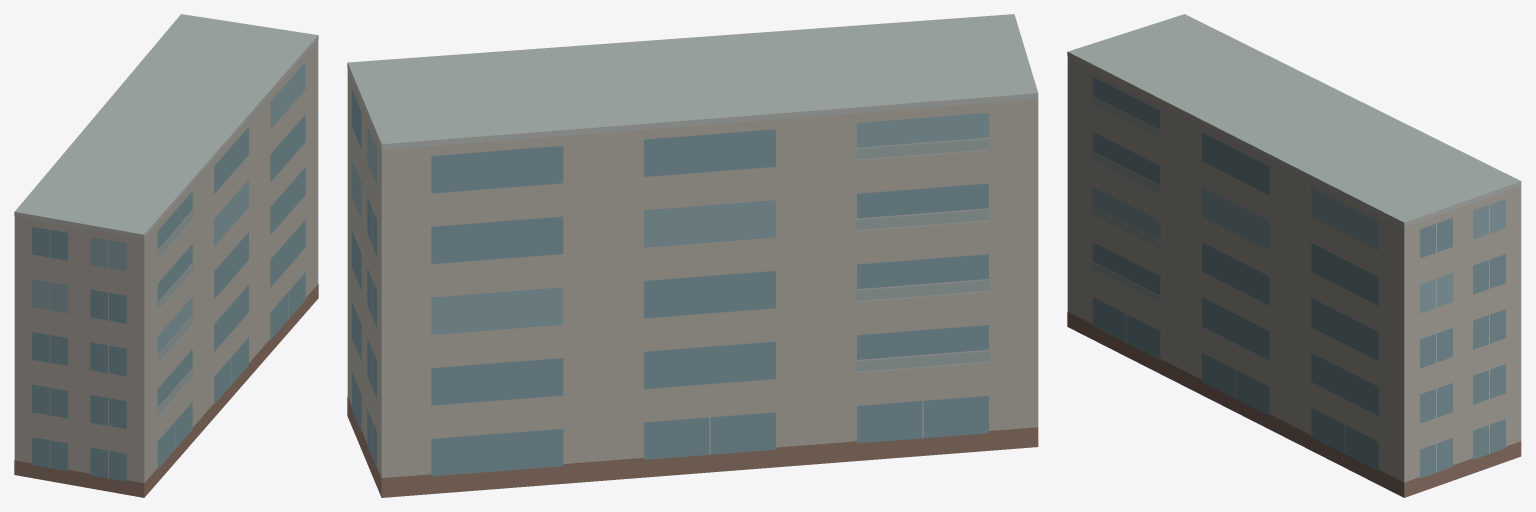
File: survey-upis-32592815.glb
3 views of the same model, side by side, from view 1: azimuth 30°, elevation 25°; view 2: azimuth 150°, elevation 25°; view 3: azimuth 270°, elevation 25° (orthographic). The views are drawn at different scales.
Parts seen in each view (by area): view 1: survey-upis-32592815.tmp; view 2: survey-upis-32592815.tmp; view 3: survey-upis-32592815.tmp.
Boxes of the visible parts, <box> form: survey-upis-32592815.tmp: <box>14,14,318,497</box>; survey-upis-32592815.tmp: <box>347,14,1038,497</box>; survey-upis-32592815.tmp: <box>1067,14,1521,497</box>.
Size of the model in its own units: 24.24 by 14.9 by 22.28.
